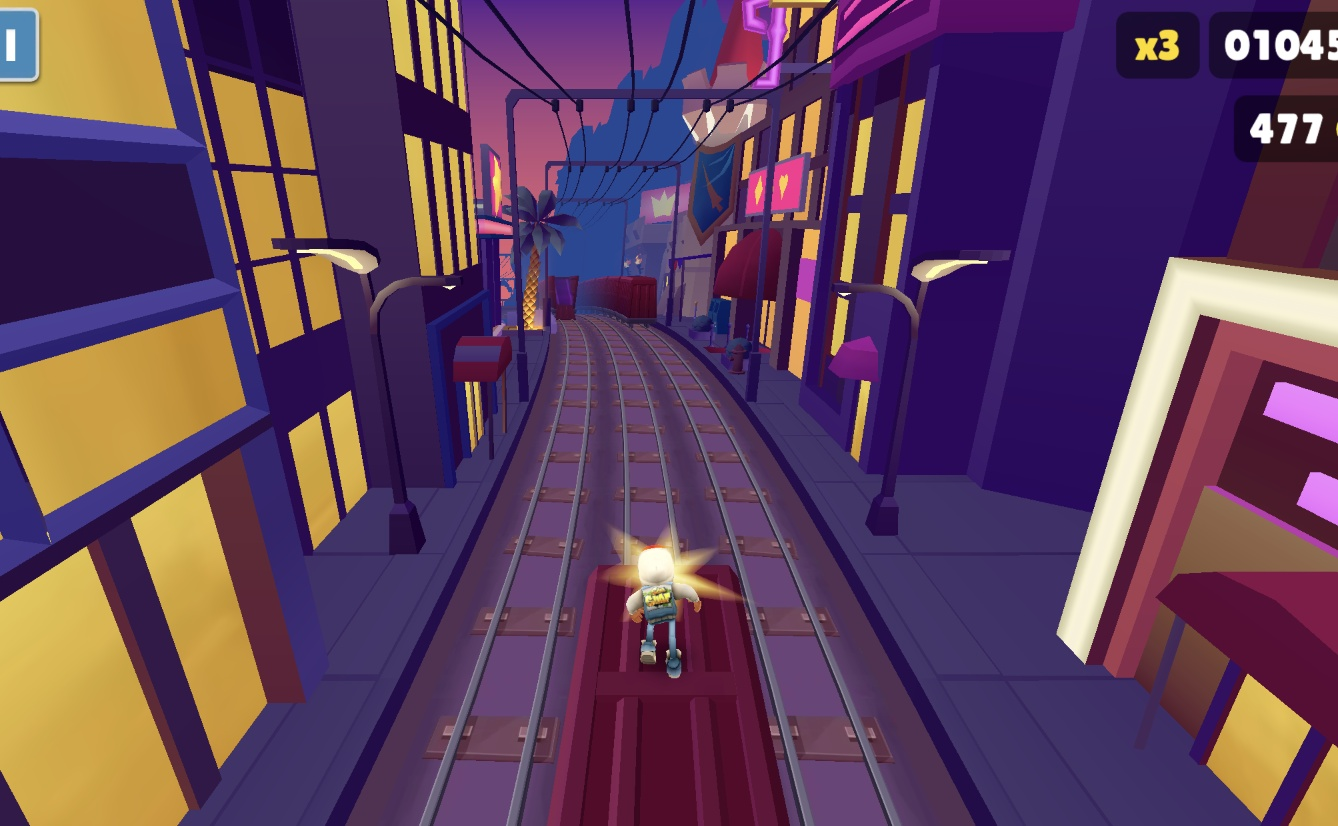train: (524, 556, 811, 826)
